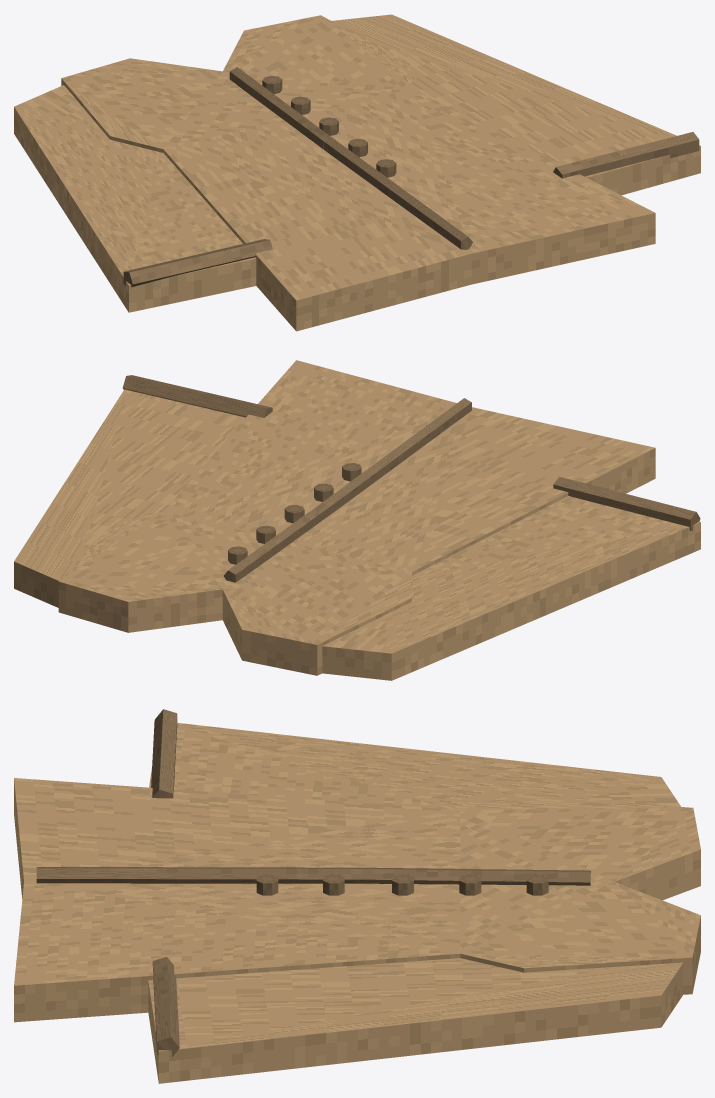
File: kariginu.glb
3 renders of one model, top to bottom at view 1: azimuth 30°, elevation 25°; view 2: azimuth 150°, elevation 25°; view 3: azimuth 270°, elevation 25°, orthographic. The views are drawn at different scales.
Parts seen in each view (by area): view 1: block_garment body, block_sleeve (×2), block_cuff 0 (×2), block_front closure 1, block_front closure 0; view 2: block_garment body, block_sleeve (×2), block_cuff 0 (×2), block_front closure 1, block_front closure 0; view 3: block_garment body, block_sleeve (×2), block_front closure 1, block_cuff 0 (×2), block_front closure 0.
Boxes of the visible parts, x1,y1,x2,y2 form: block_garment body: [61, 15, 655, 331]; block_sleeve (×2): [14, 14, 700, 312]; block_cuff 0 (×2): [123, 132, 699, 287]; block_front closure 1: [324, 137, 472, 249]; block_front closure 0: [229, 67, 330, 149]; block_garment body: [58, 360, 655, 675]; block_sleeve (×2): [14, 389, 700, 680]; block_cuff 0 (×2): [122, 375, 700, 530]; block_front closure 1: [327, 398, 471, 511]; block_front closure 0: [224, 499, 334, 582]; block_garment body: [14, 778, 700, 1022]; block_sleeve (×2): [148, 723, 683, 1083]; block_front closure 1: [36, 867, 361, 883]; block_cuff 0 (×2): [151, 709, 179, 1057]; block_front closure 0: [361, 867, 590, 885].
Bounding box in the file's own units: 0.8279 × 0.0601 × 0.7264.
1 material, 1 textured.
